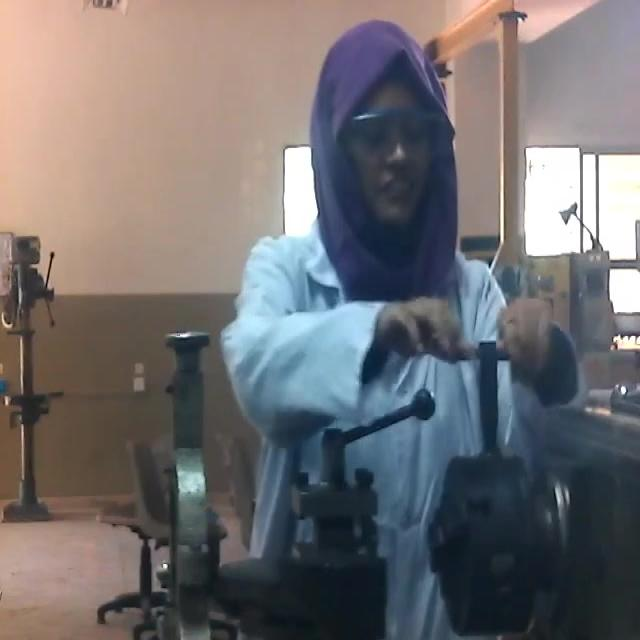googles: (347, 102, 441, 158)
labcoat: (220, 213, 586, 640)
